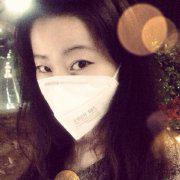OK: (32, 45, 122, 135)
